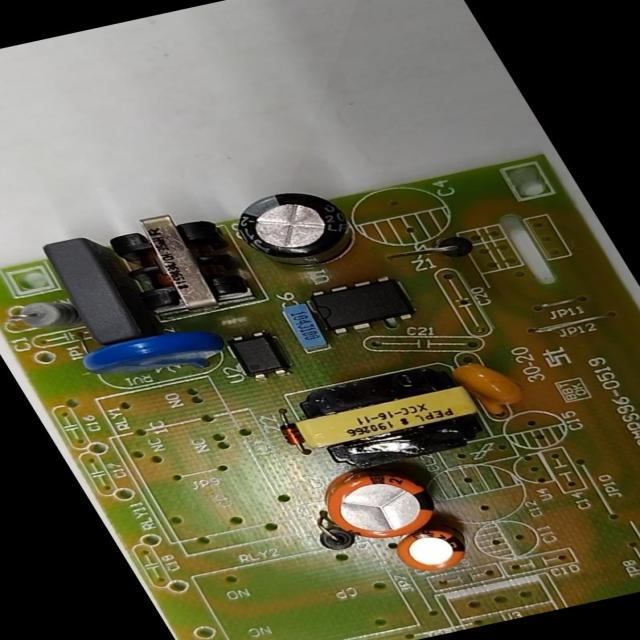Cap1: (306, 458, 451, 547)
Cap2: (388, 527, 473, 576)
Cap3: (225, 186, 366, 276)
MOSFET: (308, 275, 415, 334)
Mov: (74, 322, 228, 389)
Resistor: (4, 294, 88, 339)
Transformer: (274, 358, 500, 476), (101, 208, 256, 317)
